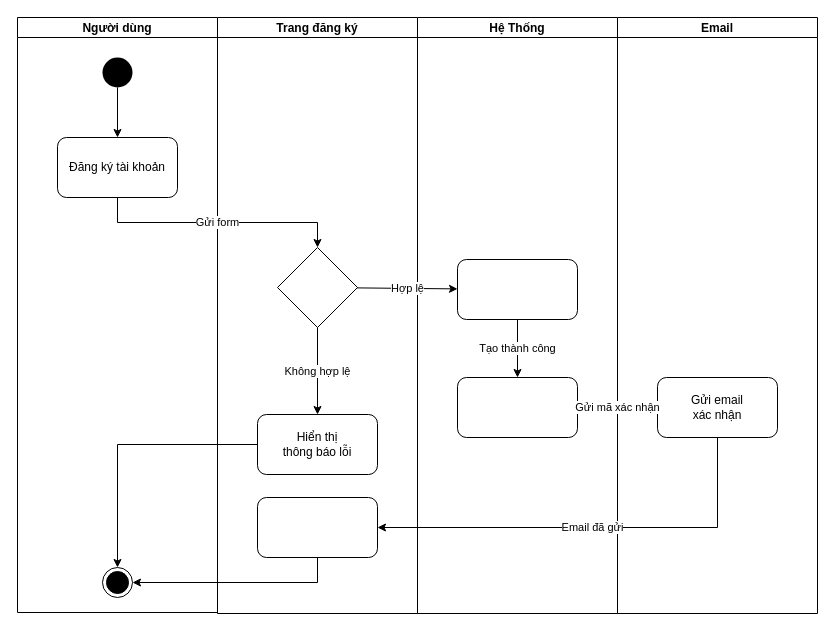
Some shapes in this 835 by 631 pixel diagram are drawn without their labels. Here are the shapes that lost their labels. From the top down, the centre of each, then its label:
At point 317,287: "Kiểm tra dữ liệu form".
At point 517,289: "Tạo tài khoản người dùng".
At point 517,407: "Tạo mã xác nhận".
At point 317,527: "Chuyển đến trang đăng ký thành công".
